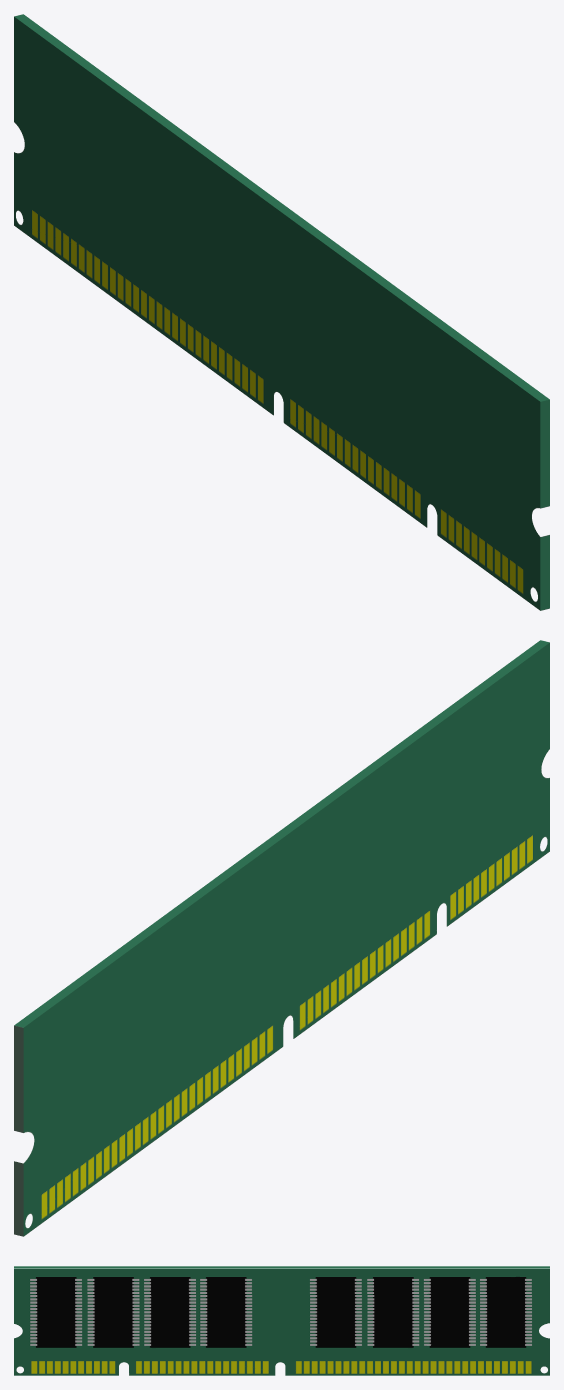
File: memory.gltf
The picture shows the model from 3 angles, top to bottom: view 1: azimuth 30°, elevation 25°; view 2: azimuth 150°, elevation 25°; view 3: azimuth 270°, elevation 25°; orthographic projection. The views are drawn at different scales.
Parts seen in each view (by area): view 1: ram01; view 2: ram01; view 3: ram01.
Part boxes in pixels (left/top/right/bottom): ram01: left=14, top=14, right=549, bottom=610; ram01: left=14, top=640, right=549, bottom=1236; ram01: left=14, top=1266, right=549, bottom=1375.
Size of the model in its own units: 0.05 by 1.05 by 4.79.
1 material, 1 textured.
